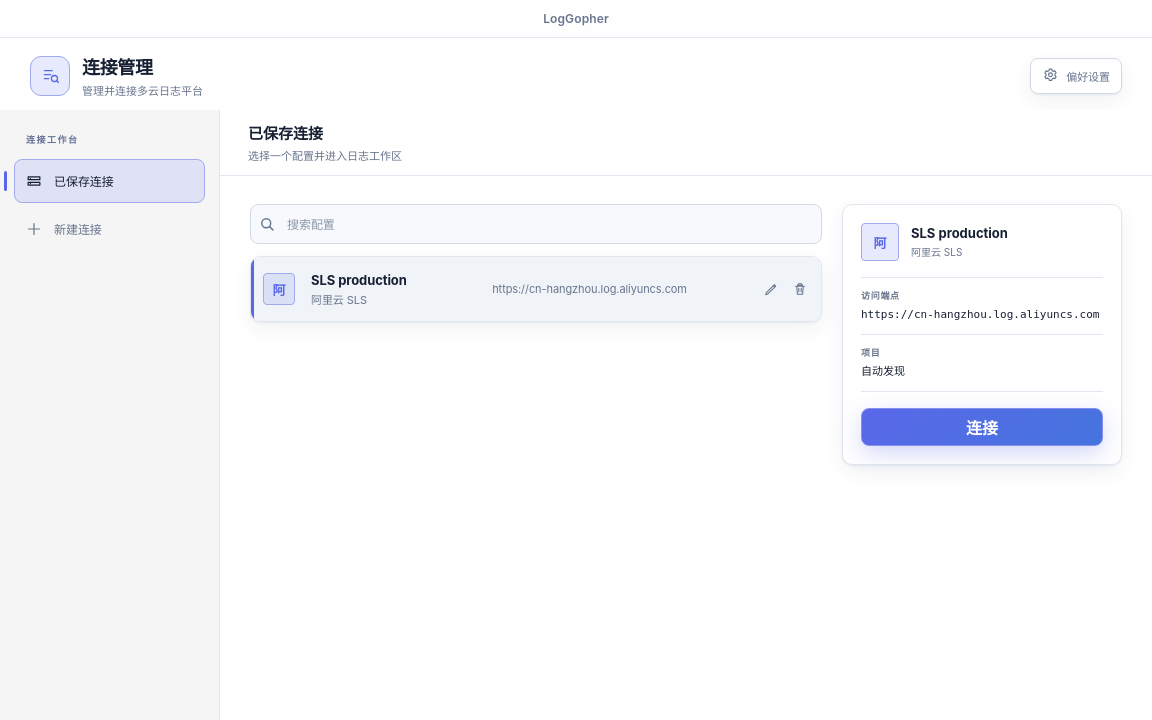
App connection workflow › replaces a manually entered unindexed SLS field query with full text
This screenshot has width=1152, height=720.
Click the button "连接": (982, 427) [861,408,1103,446]
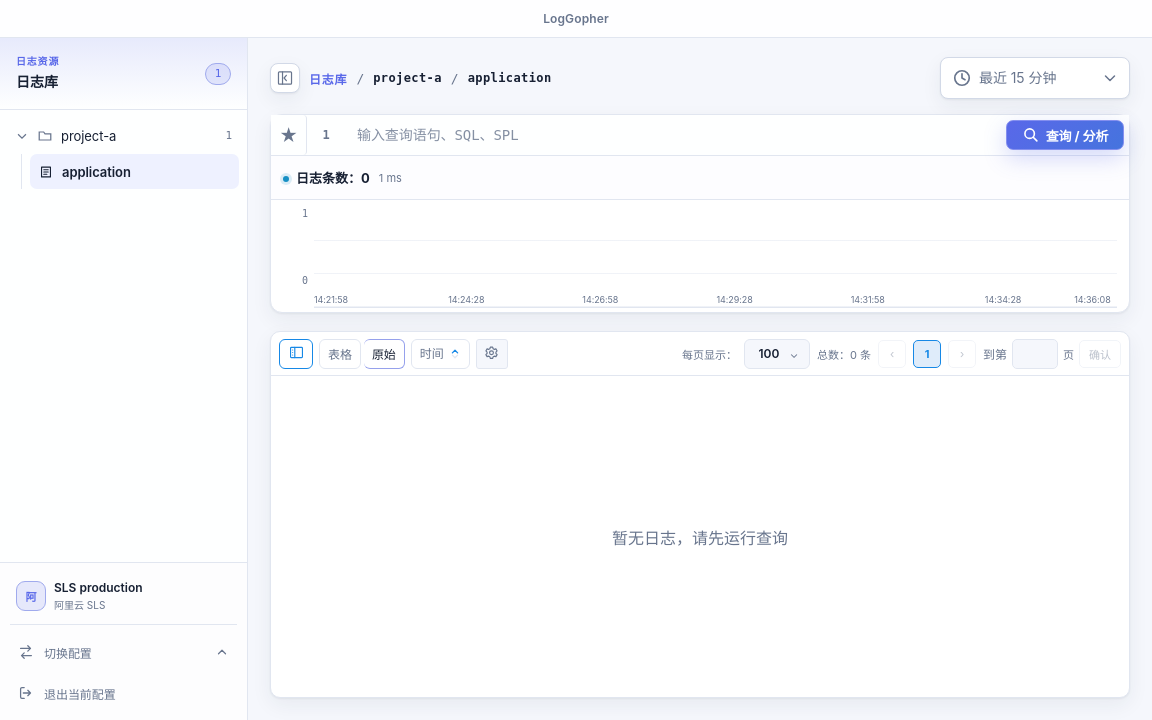
In the text box with placeholder "输入查询语句、SQL、SPL": (673, 135) [345,115,1001,155], type "* not content.type: business"
Then press Enter
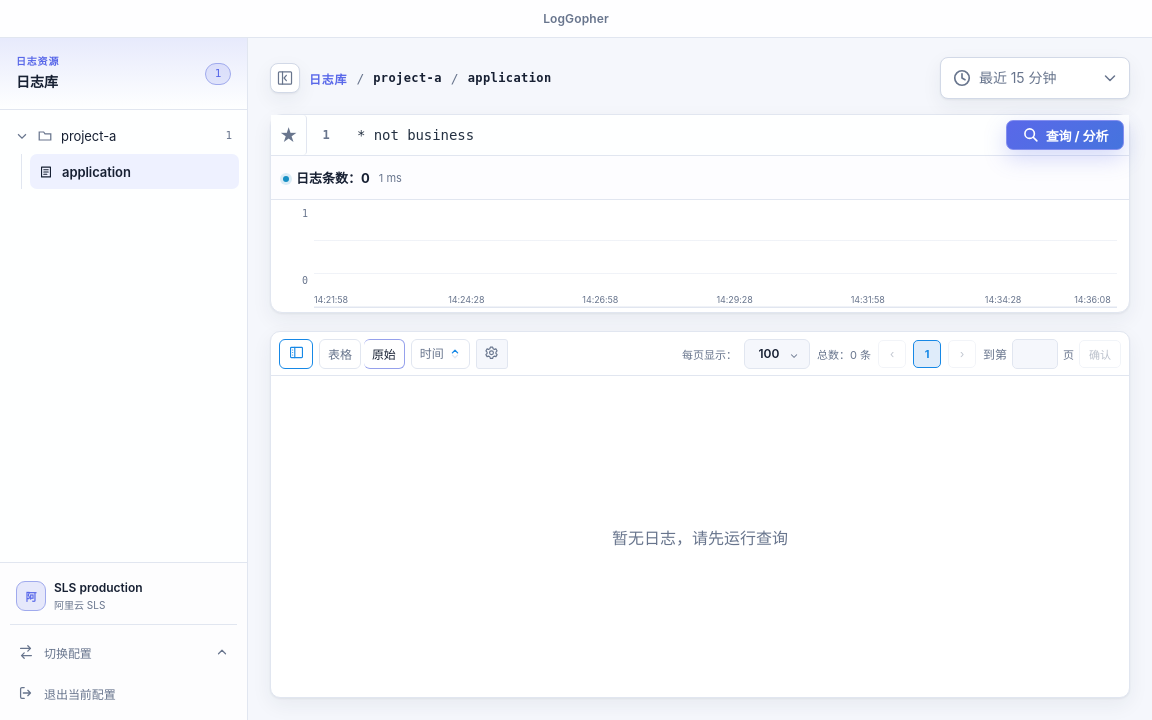
Expected: the text box with placeholder "输入查询语句、SQL、SPL" holds "* not business", [345,115,1001,155]
